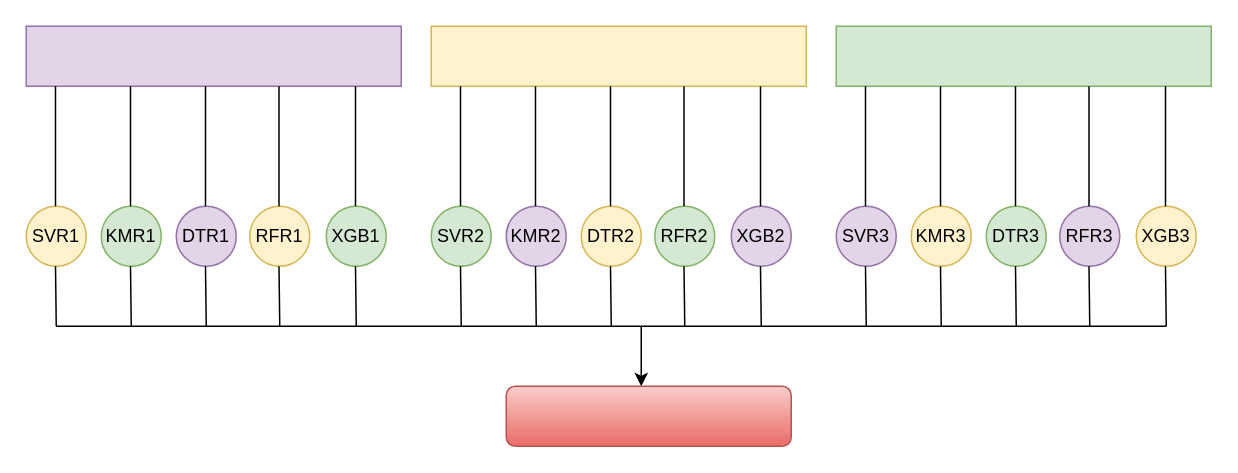
This 1238x473 diagram has some shape labels left out. The shapes that lost their labels are listed below. From the top down, each one's box as (x1, y1, x2, y2) in pixels, then its label:
(25, 25, 401, 86): 1. Veri Seti
(430, 25, 806, 86): 2. Veri Seti
(835, 25, 1211, 86): 3. Veri Seti
(505, 385, 791, 446): HİBRİT TOPLULUK MODELİ
